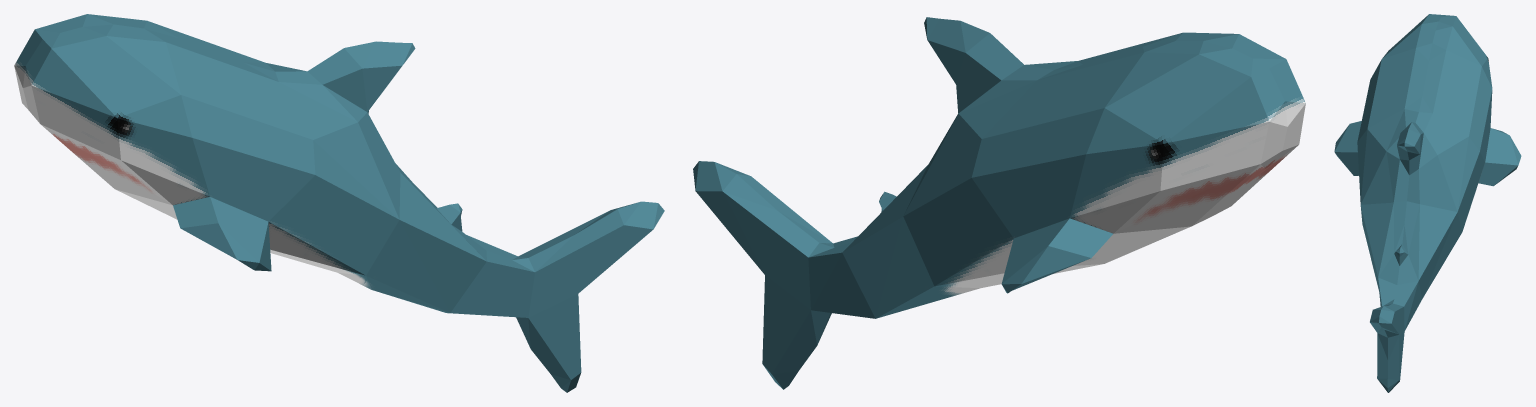
File: blahaj.glb
3 views of the same model, side by side, from view 1: azimuth 30°, elevation 25°; view 2: azimuth 150°, elevation 25°; view 3: azimuth 270°, elevation 25° (orthographic). The views are drawn at different scales.
Visible parts, largest first — view 1: Blahaj; view 2: Blahaj; view 3: Blahaj.
Boxes of the visible parts, left/top/right/bottom form: Blahaj: left=14, top=14, right=664, bottom=392; Blahaj: left=693, top=17, right=1305, bottom=389; Blahaj: left=1334, top=14, right=1521, bottom=392.
Bounding box in the file's own units: 4.41 × 3.17 × 2.15.
Materials: 1 (1 with a texture image).
